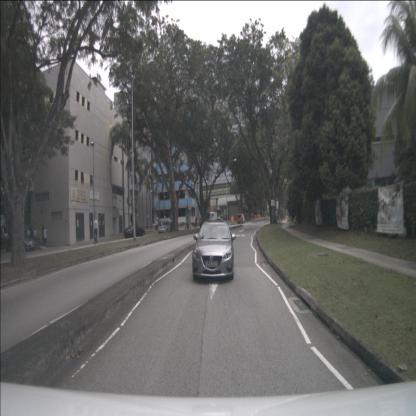human-pedestrian-adult: (93, 217, 99, 245), (32, 228, 38, 248), (42, 224, 46, 247), (43, 227, 47, 248), (29, 226, 33, 247), (27, 228, 30, 244), (186, 216, 189, 230), (155, 220, 158, 231), (195, 217, 197, 229), (199, 217, 201, 228), (156, 221, 158, 230)
vehicle-car: (192, 221, 234, 279), (7, 230, 36, 250), (124, 224, 146, 239), (158, 220, 173, 234), (237, 214, 245, 225)
vehicle-truck: (203, 212, 217, 226)
